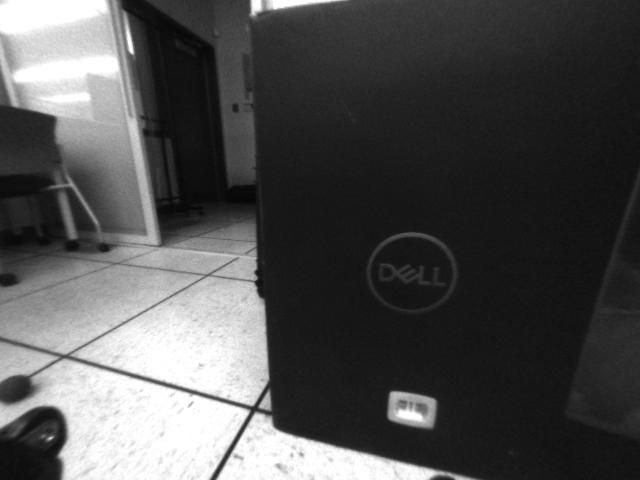dogtoy: (1, 366, 38, 404)
